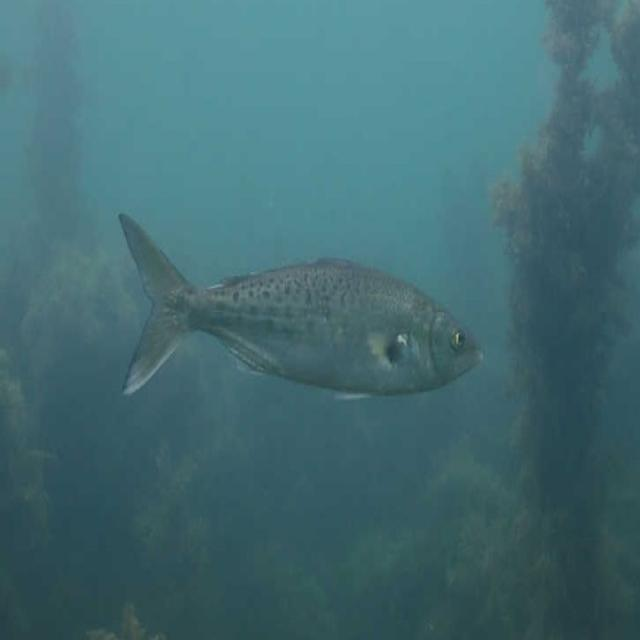Australian Salmon: (101, 196, 494, 430)
